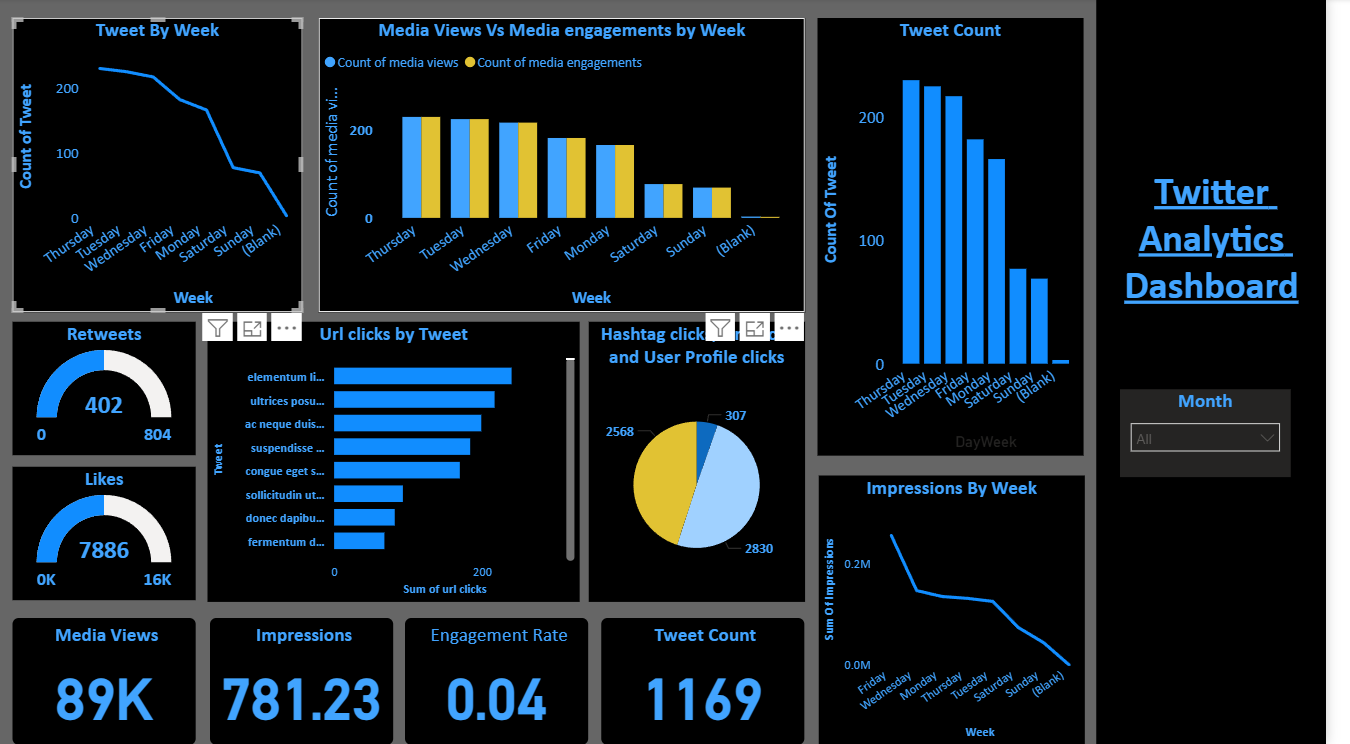

This screenshot's page, from the dashboard's own definition file:
{"tool":"powerbi","page":{"name":"Page 1","canvas":[1280,720],"ordinal":0},"visuals":[{"type":"card","title":"Media Views","fields":{"Values":["Sum(SocialMedia (1).media views)"]},"box":[12.3,598.3,177,122.1],"z":0},{"type":"card","title":"Tweet Count","fields":{"Values":["CountNonNull(SocialMedia (1).Tweet)"]},"box":[580.4,598.3,196.2,122.1],"z":1000},{"type":"card","title":"Impressions","fields":{"Values":["Avg(SocialMedia (1).impressions)"]},"box":[203.1,598.3,177,122.1],"z":2000},{"type":"card","title":"Engagement Rate","fields":{"Values":["Avg(SocialMedia (1).engagement rate)"]},"box":[391.1,598.3,177,122.1],"z":3000},{"type":"gauge","title":"Likes","fields":{"Y":["Sum(SocialMedia (1).likes)"]},"box":[12.3,452.8,177,129],"z":4000},{"type":"gauge","title":"Retweets","fields":{"Y":["Max(SocialMedia (1).retweets)"]},"box":[12.3,312.9,177,129],"z":5000},{"type":"textbox","box":[1058,0,222.3,720.4],"z":6000},{"type":"slicer","title":"Month","fields":{"Values":["SocialMedia (1).MonthName"]},"box":[1081.3,377.4,164.7,85.1],"z":7000},{"type":"lineChart","title":"Tweet By Week","fields":{"Category":["SocialMedia (1).DayWeek"],"Y":["CountNonNull(SocialMedia (1).Tweet)"]},"box":[12.3,19.2,279.9,284],"z":8000},{"type":"lineChart","title":"Impressions By Week","fields":{"Category":["SocialMedia (1).DayWeek"],"Y":["Sum(SocialMedia (1).impressions)"]},"box":[790.4,461.1,256.6,259.3],"z":9000},{"type":"clusteredBarChart","title":"Url clicks by Tweet","fields":{"Y":["Sum(SocialMedia (1).url clicks)"],"Category":["SocialMedia (1).Tweet"]},"box":[200.3,312.9,359.5,270.3],"z":10000},{"type":"pieChart","title":"Hashtag clicks, Url clicks and User  Profile clicks","fields":{"Y":["Sum(SocialMedia (1).hashtag clicks)","Sum(SocialMedia (1).url clicks)","Sum(SocialMedia (1).user profile clicks)"]},"box":[568.1,312.9,208.6,270.3],"z":11000},{"type":"clusteredColumnChart","title":"Media Views Vs Media engagements by Week","fields":{"Y":["CountNonNull(SocialMedia (1).media views)","CountNonNull(SocialMedia (1).media engagements)"],"Category":["SocialMedia (1).DayWeek"]},"box":[307.4,19.2,469.3,284],"z":12000},{"type":"clusteredColumnChart","title":"Tweet Count","fields":{"Category":["SocialMedia (1).DayWeek"],"Y":["CountNonNull(SocialMedia (1).Tweet)"]},"box":[789,19.2,256.6,422.6],"z":12001}]}

Visuals, with their boxes in screenshot pixels (x1, y1, x2, y2), scaled from the page's 1280x720 canvas onto the 1350x744 screenshot:
"Media Views" card: 13,618,200,743
"Tweet Count" card: 612,618,819,743
"Impressions" card: 214,618,401,743
"Engagement Rate" card: 412,618,599,743
"Likes" gauge: 13,468,200,601
"Retweets" gauge: 13,323,200,457
textbox: 1116,0,1349,743
"Month" slicer: 1140,390,1314,478
"Tweet By Week" lineChart: 13,20,308,313
"Impressions By Week" lineChart: 834,476,1104,743
"Url clicks by Tweet" clusteredBarChart: 211,323,590,603
"Hashtag clicks, Url clicks and User  Profile clicks" pieChart: 599,323,819,603
"Media Views Vs Media engagements by Week" clusteredColumnChart: 324,20,819,313
"Tweet Count" clusteredColumnChart: 832,20,1103,457
